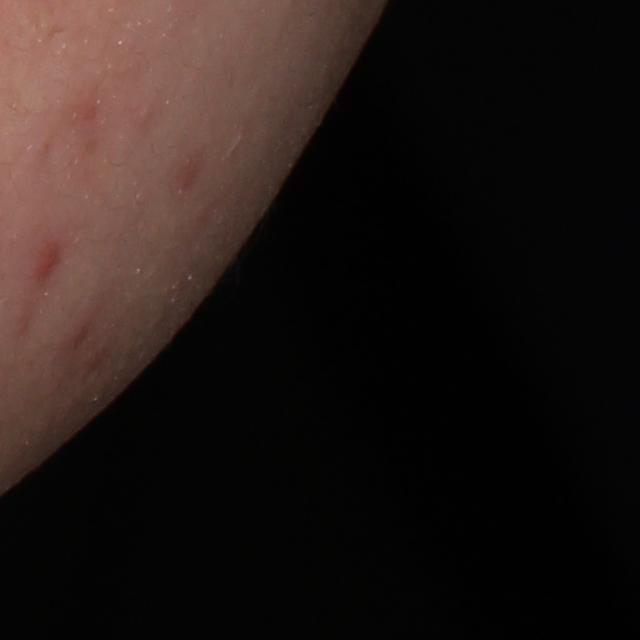papule: (34, 239, 59, 285)
